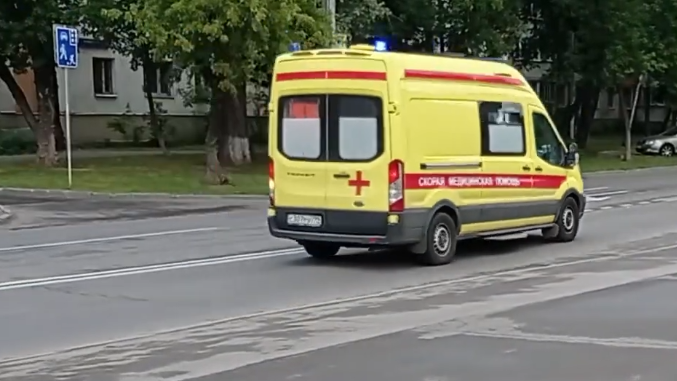intensive care unit: (267, 38, 585, 267)
non emergency car: (636, 121, 676, 158)
